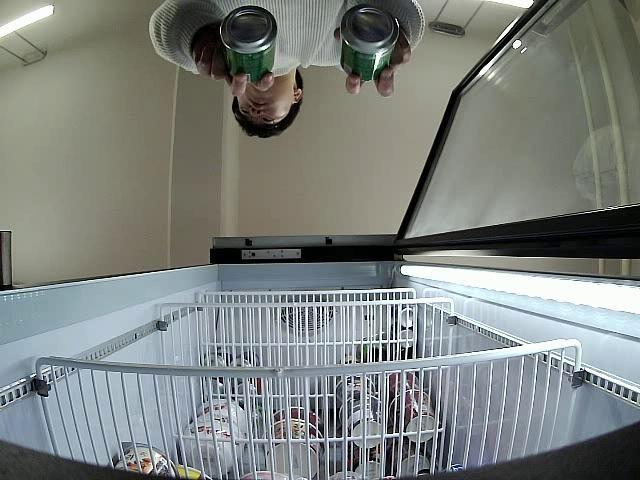12_chilsungCider: (339, 6, 398, 82), (220, 6, 276, 84)
